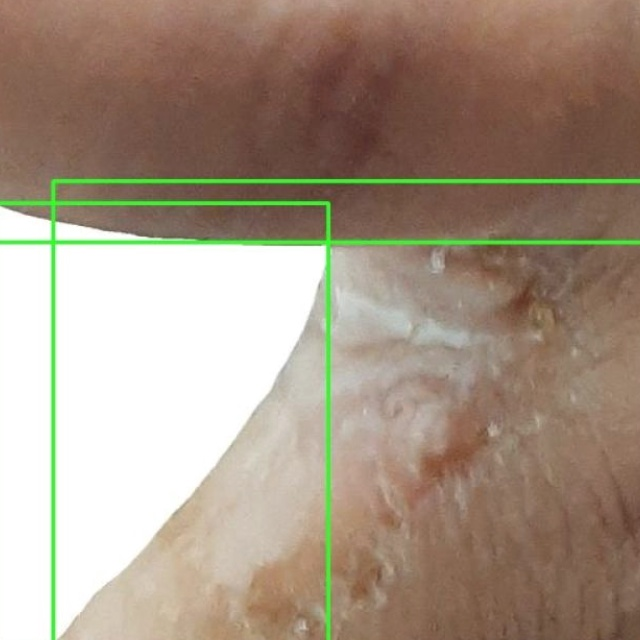Scabies: (53, 182, 639, 639), (0, 0, 639, 242), (0, 203, 328, 639)
